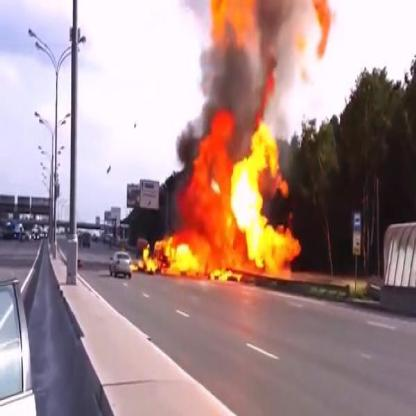fire: (132, 100, 308, 280), (207, 0, 263, 53)
